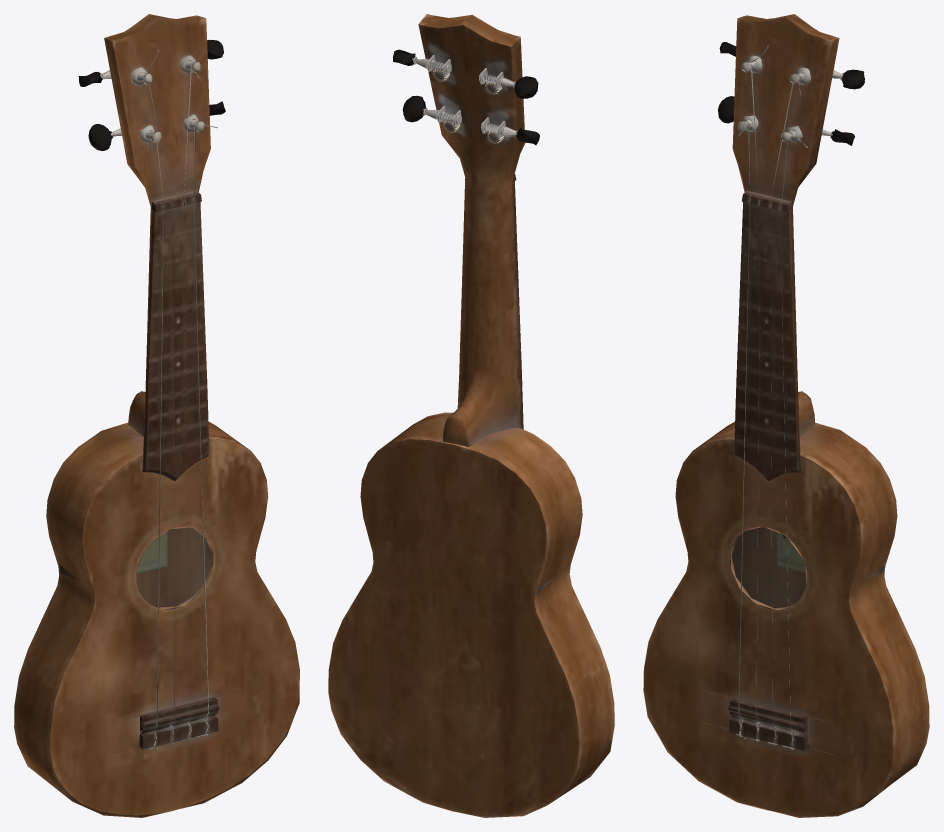
Rendered from Ukulele_01.glb.
The picture shows the model from 3 angles, left to right: view 1: azimuth 30°, elevation 25°; view 2: azimuth 150°, elevation 25°; view 3: azimuth 330°, elevation 25°; orthographic projection.
Visible parts, largest first — view 1: Ukulele_01; view 2: Ukulele_01; view 3: Ukulele_01.
Part boxes in pixels (box(x1,y1,x2,y2)): Ukulele_01: box(14, 14, 299, 817); Ukulele_01: box(328, 14, 614, 817); Ukulele_01: box(643, 14, 929, 817).
Size of the model in its own units: 0.1765 by 0.5267 by 0.051.
1 material, 1 textured.
